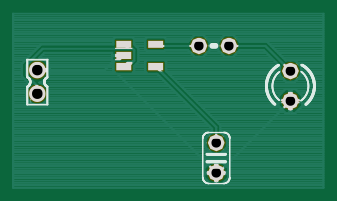LED: (264, 62, 317, 111)
capacitance: (201, 132, 231, 185), (25, 59, 50, 106)
regulation: (115, 39, 165, 72)
resistance: (189, 37, 239, 54)
